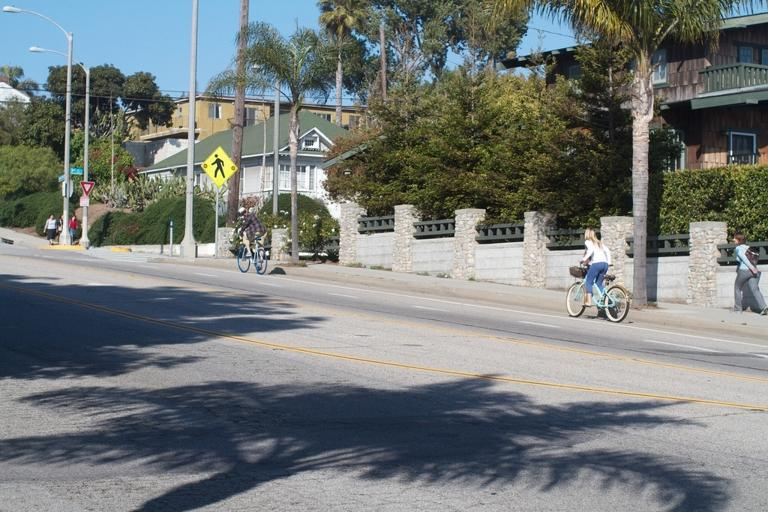non-vehicle: (566, 260, 629, 323), (236, 233, 267, 274)
